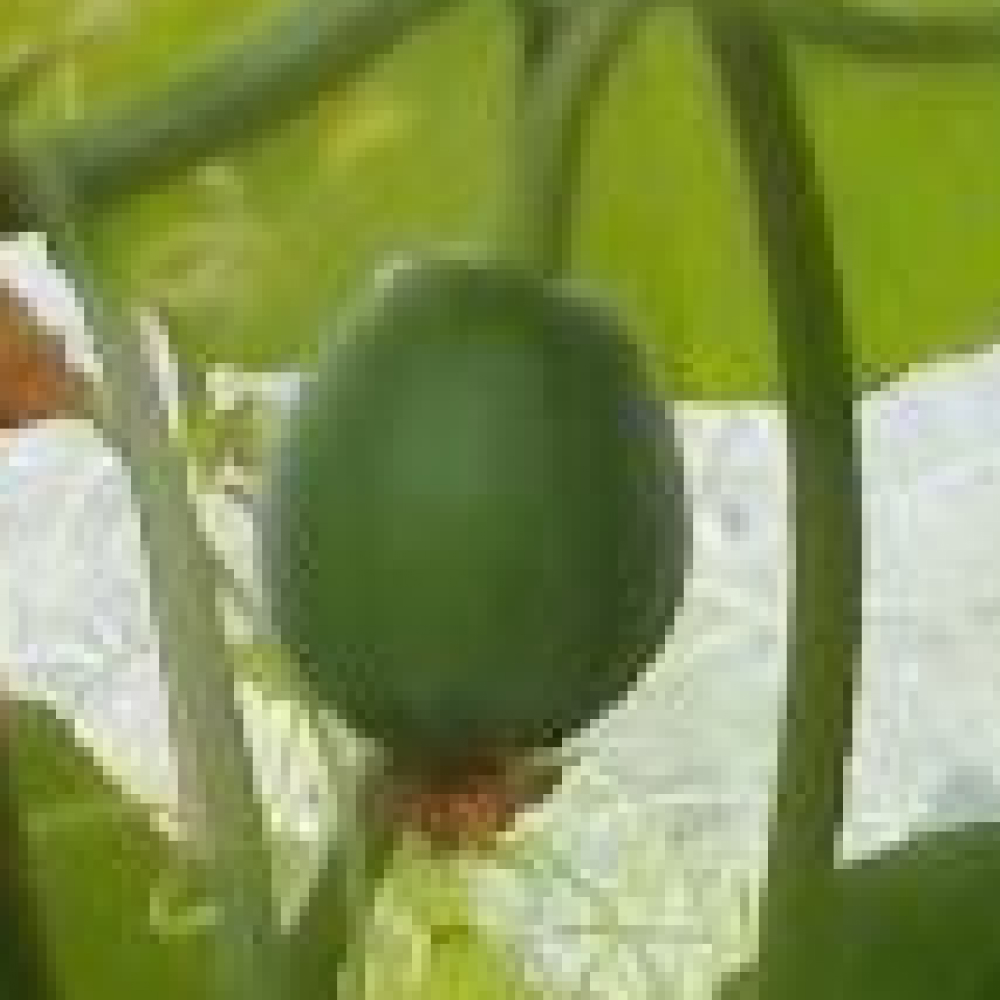melon: (254, 241, 710, 772)
